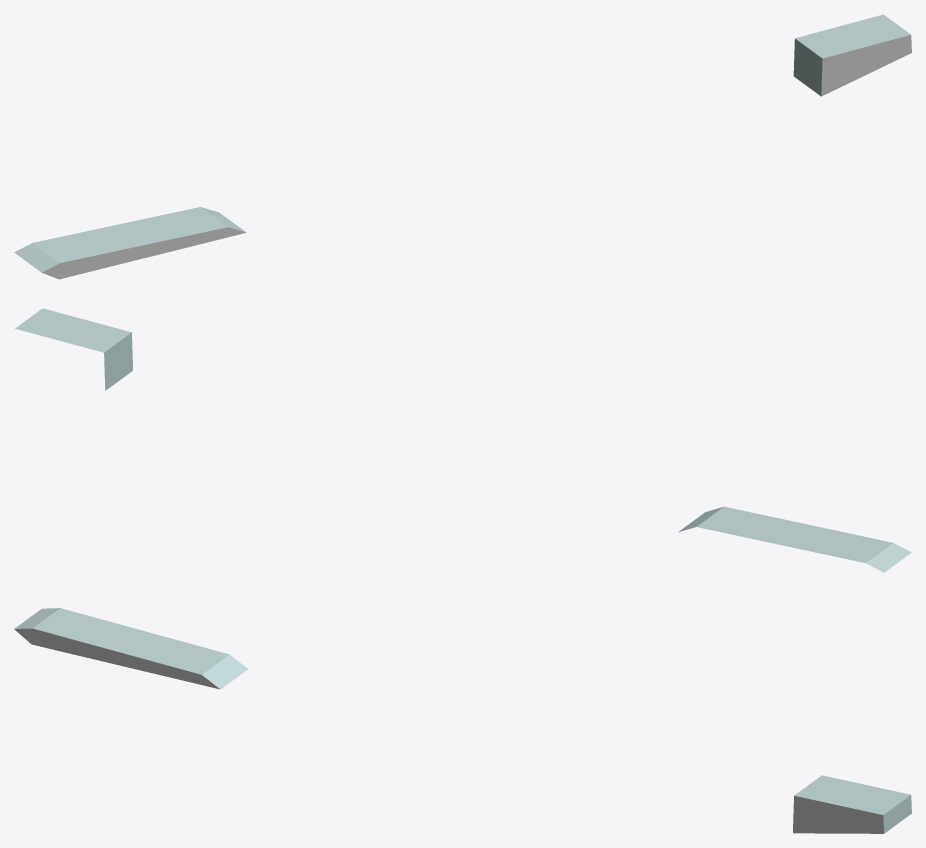
3 renders of one model, top to bottom at view 1: azimuth 30°, elevation 25°; view 2: azimuth 150°, elevation 25°; view 3: azimuth 330°, elevation 25°, orthographic.
Parts seen in each view (by area): view 1: 0_2_1_0_2_2_1_0_3; view 2: 0_2_1_0_2_2_1_0_3; view 3: 0_2_1_0_2_2_1_0_3.
Boxes of the visible parts, left/top/right/bottom form: 0_2_1_0_2_2_1_0_3: left=14, top=14, right=911, bottom=279; 0_2_1_0_2_2_1_0_3: left=15, top=308, right=911, bottom=572; 0_2_1_0_2_2_1_0_3: left=14, top=608, right=911, bottom=833.
Size of the model in its own units: 54.26 by 2.39 by 3.33.
